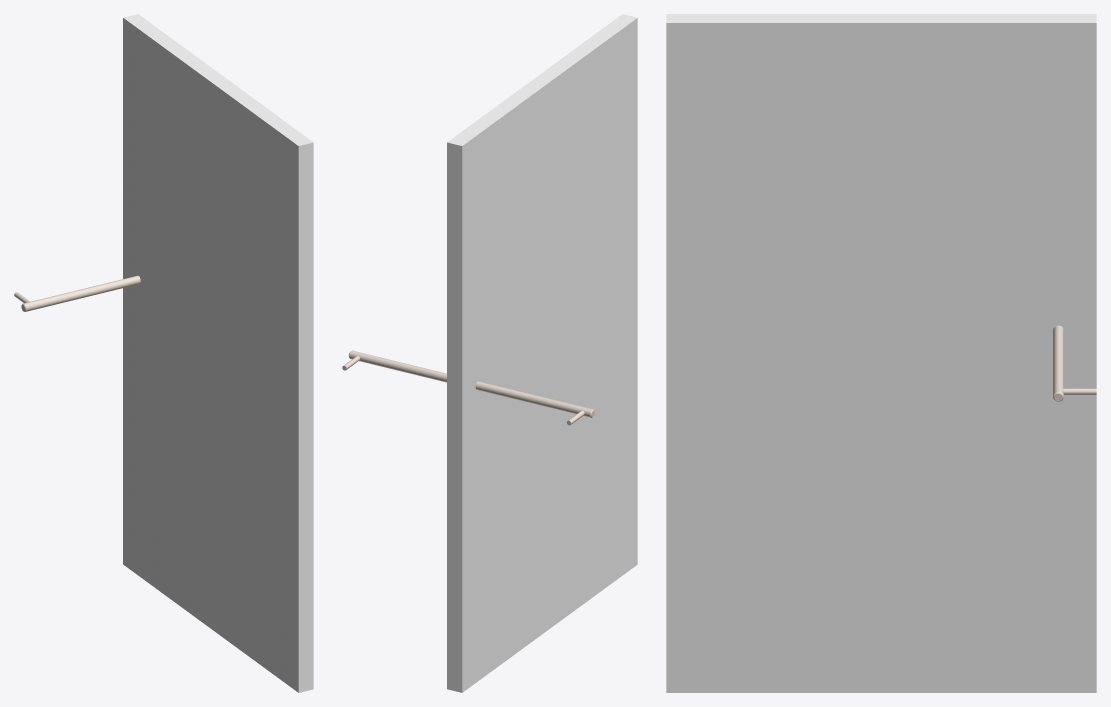
The model's file is Cabinet_0d5426f2.obj.
3 views of the same model, side by side, from view 1: azimuth 30°, elevation 25°; view 2: azimuth 150°, elevation 25°; view 3: azimuth 270°, elevation 25° (orthographic). The views are drawn at different scales.
Visible parts, largest first — view 1: FP424:Door2_3de976a1, handle_1_305mm_01_435bf468; view 2: FP424:Door2_3de976a1, handle_1_305mm_01_435bf468; view 3: FP424:Door2_3de976a1, handle_1_305mm_01_435bf468.
Part boxes in pixels (x1,y1,x2,y2): FP424:Door2_3de976a1: (123,14,313,692); handle_1_305mm_01_435bf468: (14,275,140,311); FP424:Door2_3de976a1: (447,14,637,692); handle_1_305mm_01_435bf468: (342,350,594,425); FP424:Door2_3de976a1: (666,14,1096,692); handle_1_305mm_01_435bf468: (1053,325,1096,401).
Bounding box in the file's own units: 0.305 × 0.6566 × 0.382.
